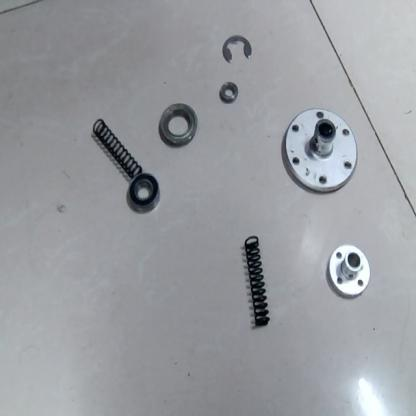FOD: (2, 2, 415, 413), (282, 103, 360, 197), (88, 116, 145, 181), (242, 228, 272, 333), (326, 243, 373, 299), (157, 101, 199, 149), (126, 169, 162, 216), (218, 34, 255, 68), (217, 80, 241, 106)
